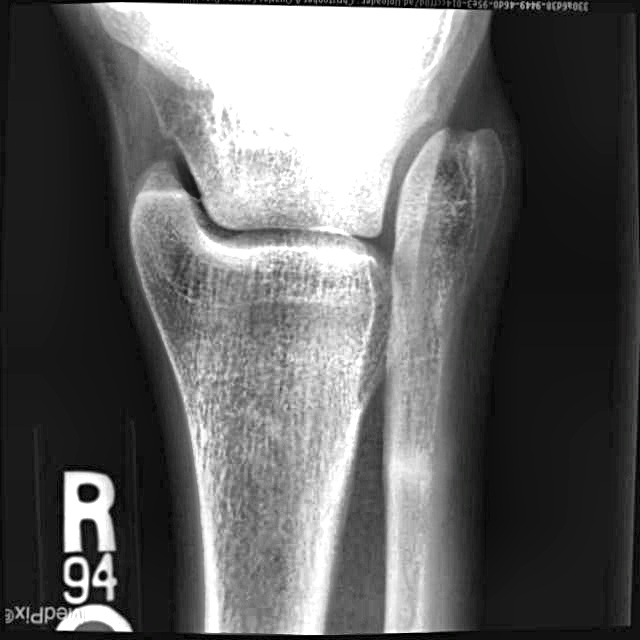Healthy: (108, 59, 535, 609)
